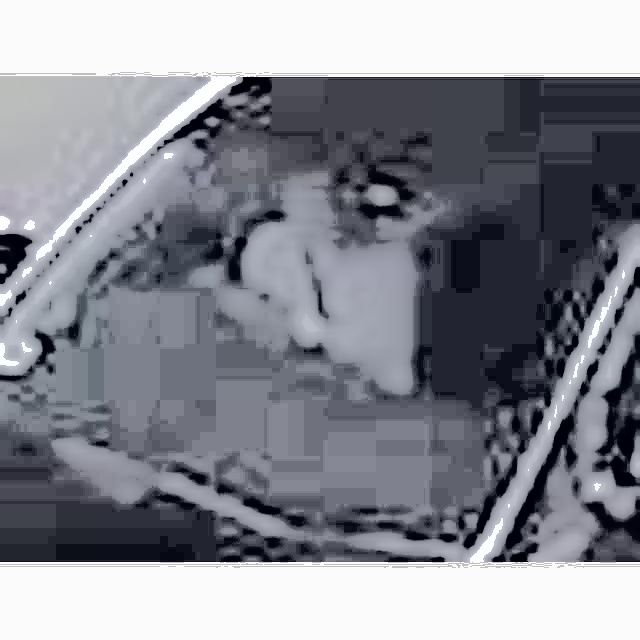pakai: (189, 165, 431, 400)
